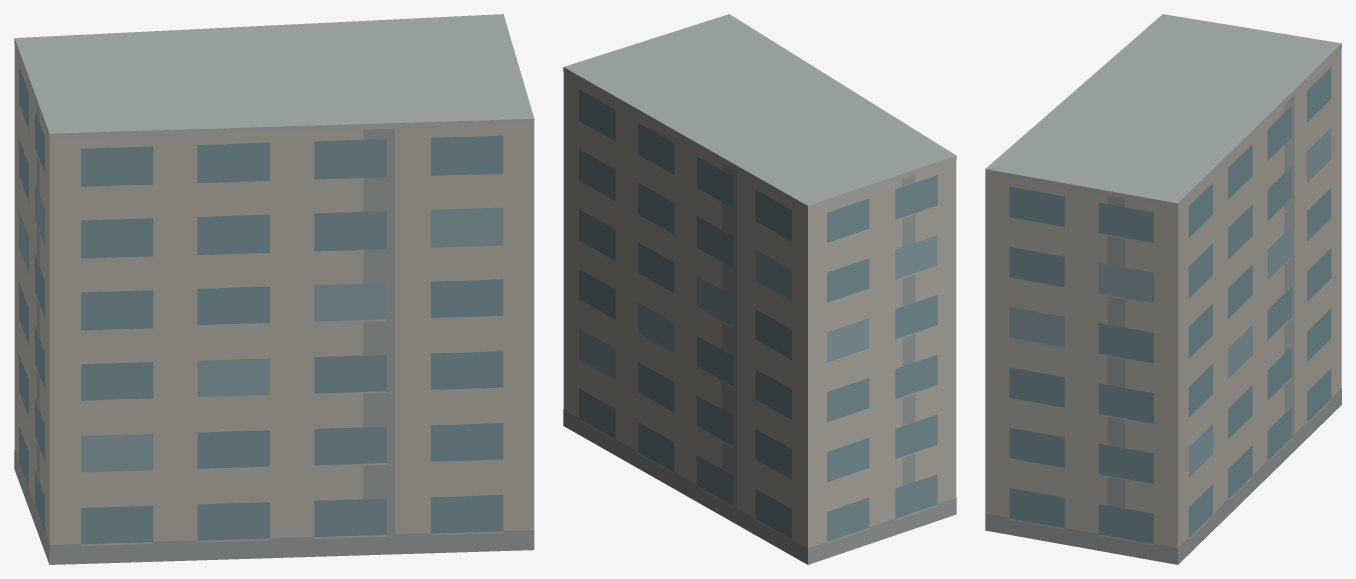
File: survey-upis-32562926.glb
3 renders of one model, left to right at view 1: azimuth 30°, elevation 25°; view 2: azimuth 150°, elevation 25°; view 3: azimuth 270°, elevation 25°, orthographic. The views are drawn at different scales.
Visible parts, largest first — view 1: survey-upis-32562926.tmp; view 2: survey-upis-32562926.tmp; view 3: survey-upis-32562926.tmp.
Boxes of the visible parts, box(x1,y1,x2,y2) form: survey-upis-32562926.tmp: box(14, 14, 534, 564); survey-upis-32562926.tmp: box(563, 14, 956, 564); survey-upis-32562926.tmp: box(985, 14, 1341, 564).
Size of the model in its own units: 20.57 by 18.3 by 16.37.
